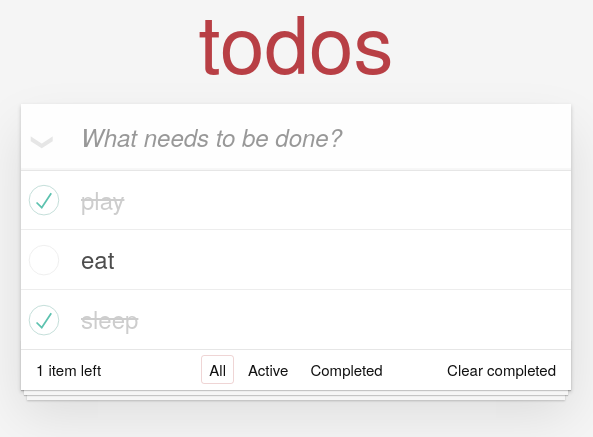
Test case: 删除所有已完成任务 › 点击清除按钮，应该删除所有已完成任务
The image size is (593, 437).
Note:  点击清除按钮 
Click the button with test id "clear-completed" at (502, 370), box [447,360,556,380]
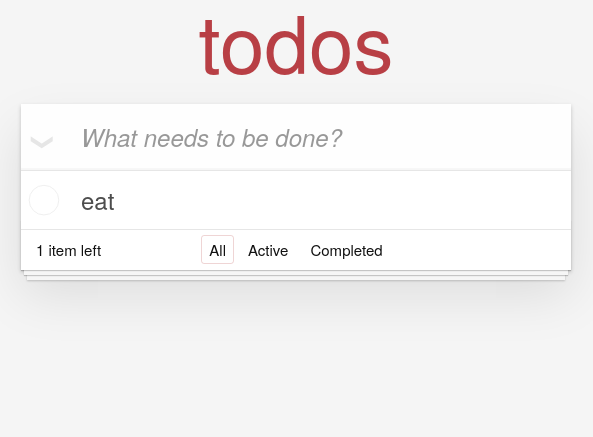
Check: the list item with test id "todo-item" reads "eat", box [81,182,114,217]
Check: the button with test id "clear-completed" is gone
